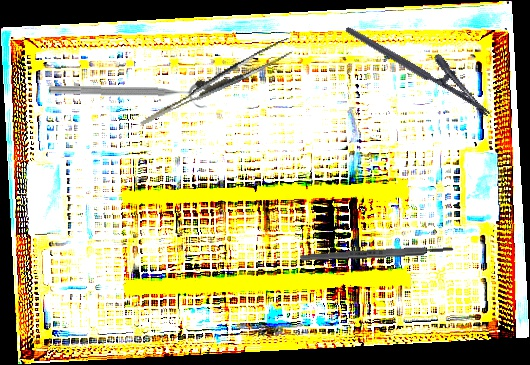Fixation Ring: (48, 80, 211, 111)
Needle Holder: (344, 5, 504, 120)
Scalpel Handle: (298, 244, 455, 263)
Tissue Forceps: (130, 37, 300, 126)
